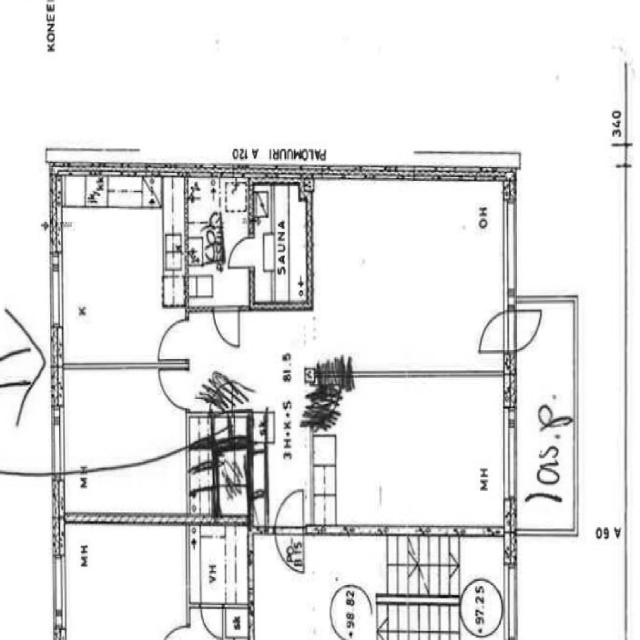door: (272, 484, 308, 576), (153, 312, 191, 366), (153, 362, 192, 413), (472, 307, 512, 356), (509, 304, 545, 354), (211, 303, 243, 352), (225, 234, 261, 273), (199, 602, 226, 640)
window: (498, 192, 523, 304), (499, 400, 522, 504), (61, 355, 160, 379), (46, 250, 68, 336), (616, 58, 636, 150), (47, 401, 68, 477), (504, 559, 522, 638), (50, 552, 68, 627)
zone: (310, 181, 506, 374), (310, 372, 512, 533), (57, 168, 185, 362), (60, 361, 190, 514), (512, 296, 578, 534), (58, 522, 188, 640), (181, 180, 250, 302), (254, 183, 311, 311), (316, 534, 378, 640), (185, 521, 252, 608), (459, 539, 509, 640)
